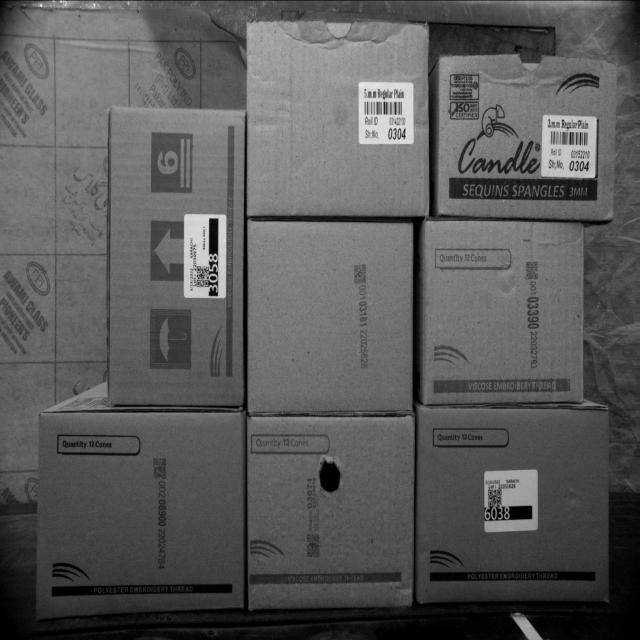cardboxes: (38, 409, 244, 620), (107, 105, 247, 408), (417, 403, 611, 607), (245, 20, 431, 216), (247, 412, 413, 610), (247, 221, 413, 413), (419, 217, 586, 406), (439, 52, 619, 222), (627, 554, 638, 555)
